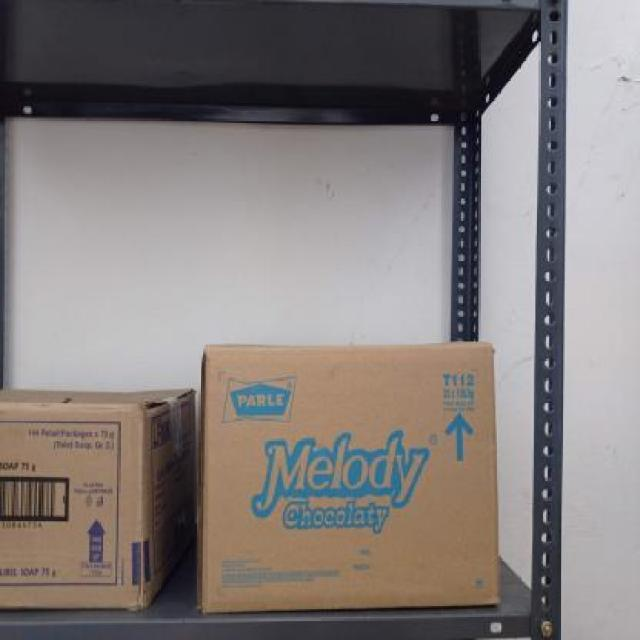box: (203, 346, 505, 605), (0, 411, 149, 604)
